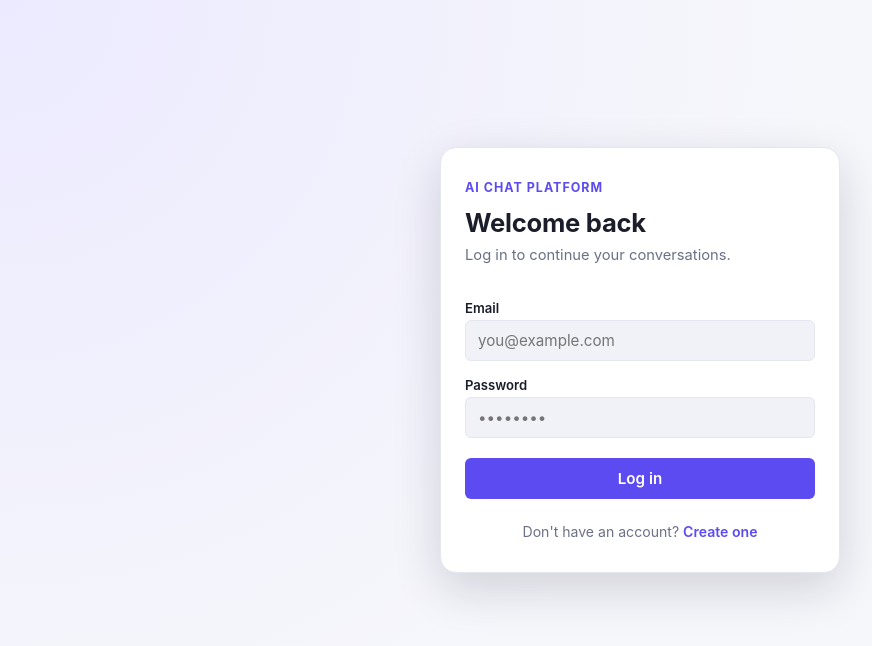
LoginPage › shows an error message when the backend rejects the credentials
Type "user@example.com" into the field labelled "Email". click: (640, 340)
box: [465,320,815,361]
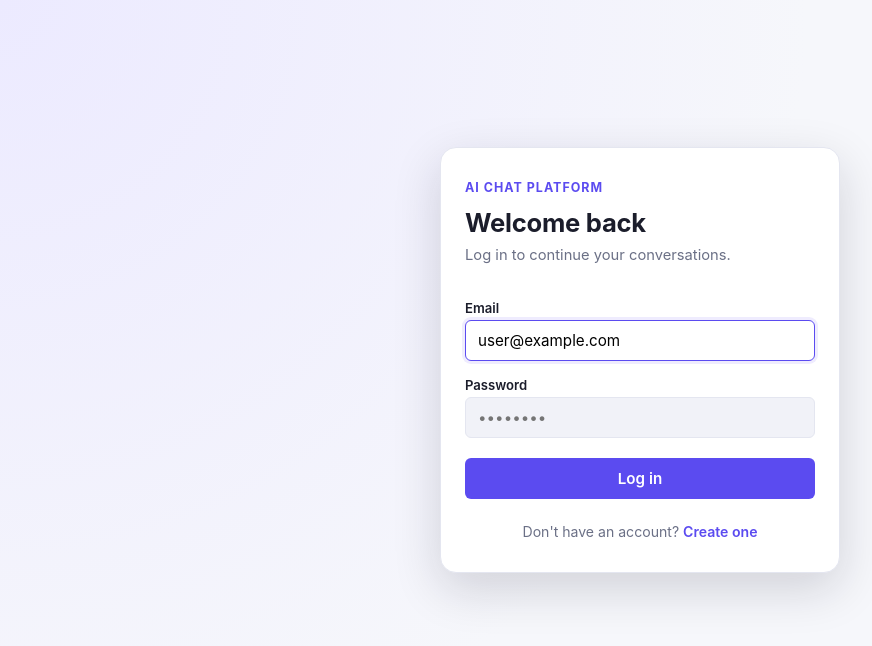
Type "wrongpassword" into the password field labelled "Password". click: (640, 418)
box: [465,397,815,438]
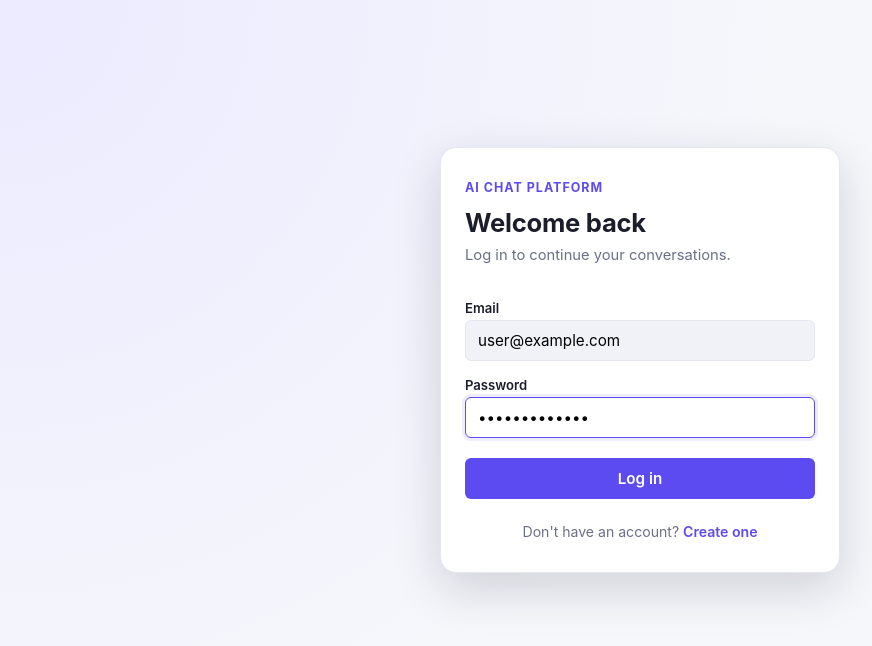
Click the button "Log in". click: click(640, 478)
box: [465,458,815,499]
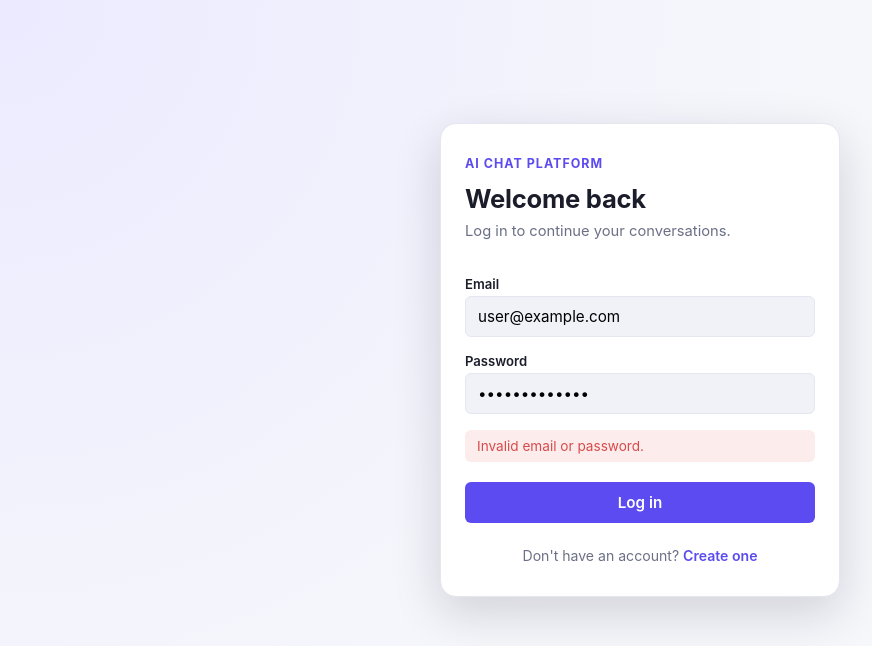
Result: the message reads "Invalid email or password." at [477,438,644,454]
